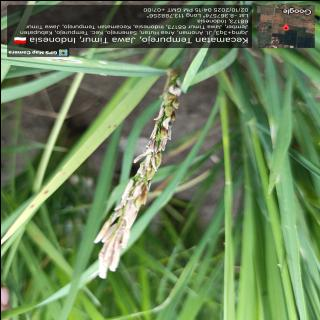Busuk-Bulir: (146, 90, 177, 157), (146, 139, 156, 151), (159, 136, 167, 150), (162, 116, 170, 129), (159, 125, 166, 138), (166, 127, 170, 139)
